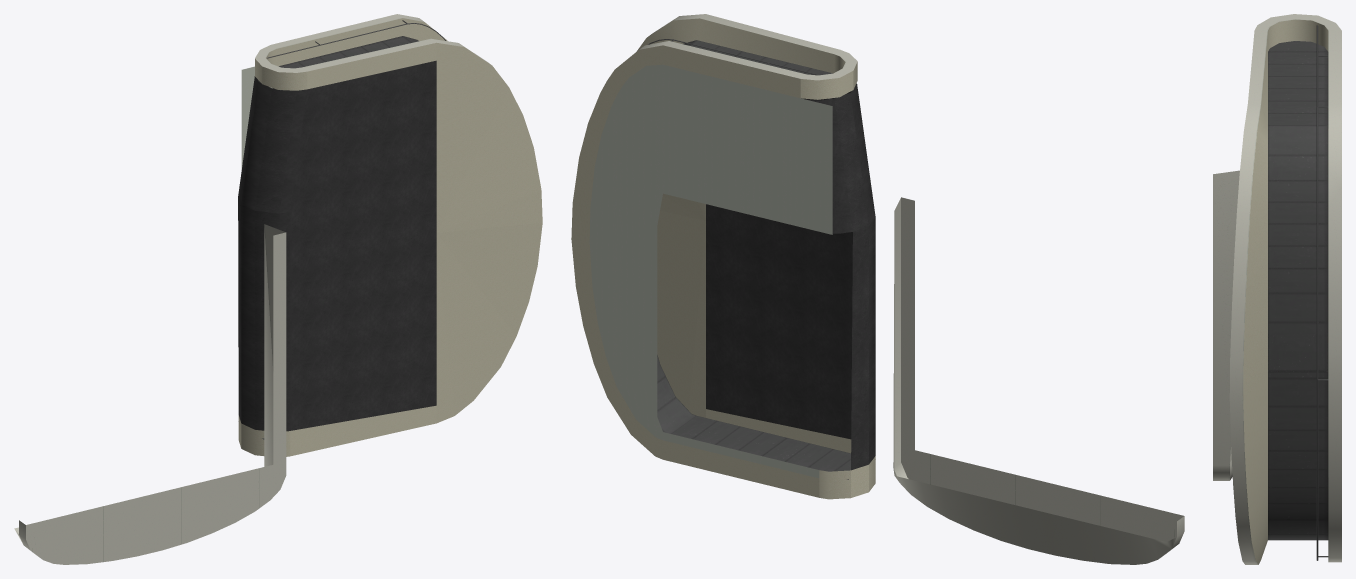
Rendered from nt_2020_house_small_roof_shell_LOD1.obj.
3 views of the same model, side by side, from view 1: azimuth 30°, elevation 25°; view 2: azimuth 150°, elevation 25°; view 3: azimuth 270°, elevation 25° (orthographic). The views are drawn at different scales.
Visible parts, largest first — view 1: jun_art_metal_black, hjk_interior_plastic_tile_02, hjk_interior_plastic_tile, facade_glass_window_01_gray, plastic_panel_off_white; view 2: plastic_panel_off_white, jun_art_metal_black, hjk_interior_plastic_tile_02, hjk_interior_plastic_tile, facade_glass_window_01_gray; view 3: facade_glass_window_01_gray, hjk_interior_plastic_tile, hjk_interior_plastic_tile_02, metal_chrome_boat.
Part boxes in pixels (x1,y1,x2,y2): jun_art_metal_black: (238, 60, 436, 431); hjk_interior_plastic_tile_02: (238, 18, 542, 456); hjk_interior_plastic_tile: (14, 14, 489, 564); facade_glass_window_01_gray: (262, 36, 418, 439); plastic_panel_off_white: (241, 66, 272, 169); plastic_panel_off_white: (589, 64, 832, 478); jun_art_metal_black: (706, 83, 875, 470); hjk_interior_plastic_tile_02: (571, 18, 875, 499); hjk_interior_plastic_tile: (639, 14, 1184, 564); facade_glass_window_01_gray: (657, 40, 850, 479); facade_glass_window_01_gray: (1268, 41, 1328, 540); hjk_interior_plastic_tile: (1213, 14, 1341, 564); hjk_interior_plastic_tile_02: (1243, 19, 1328, 564); metal_chrome_boat: (1316, 25, 1328, 560).
Size of the model in its own units: 2187 by 1702 by 389.
